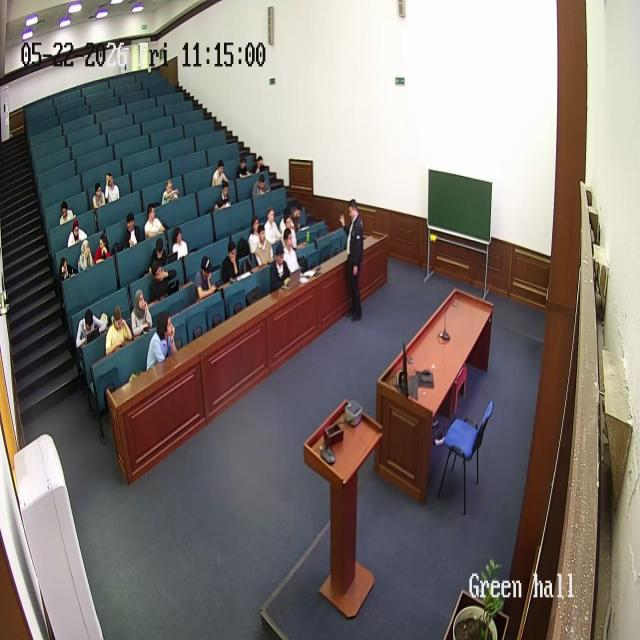person: (339, 198, 365, 318), (146, 310, 178, 370), (149, 254, 177, 305), (104, 305, 132, 355), (76, 308, 106, 351), (130, 288, 154, 338), (194, 253, 219, 299), (270, 244, 292, 294), (280, 228, 302, 276), (253, 218, 275, 266), (221, 239, 241, 285), (143, 204, 165, 241), (263, 204, 282, 244), (123, 212, 143, 248), (66, 216, 88, 248), (170, 225, 189, 261), (278, 211, 296, 248), (77, 235, 94, 272), (94, 232, 112, 264), (290, 204, 306, 239), (248, 216, 262, 255), (214, 182, 232, 212), (104, 172, 120, 205), (251, 169, 269, 196), (58, 255, 75, 283), (162, 180, 180, 206), (212, 158, 228, 187), (92, 180, 106, 210), (59, 200, 75, 226), (237, 154, 251, 180), (253, 155, 269, 177)
